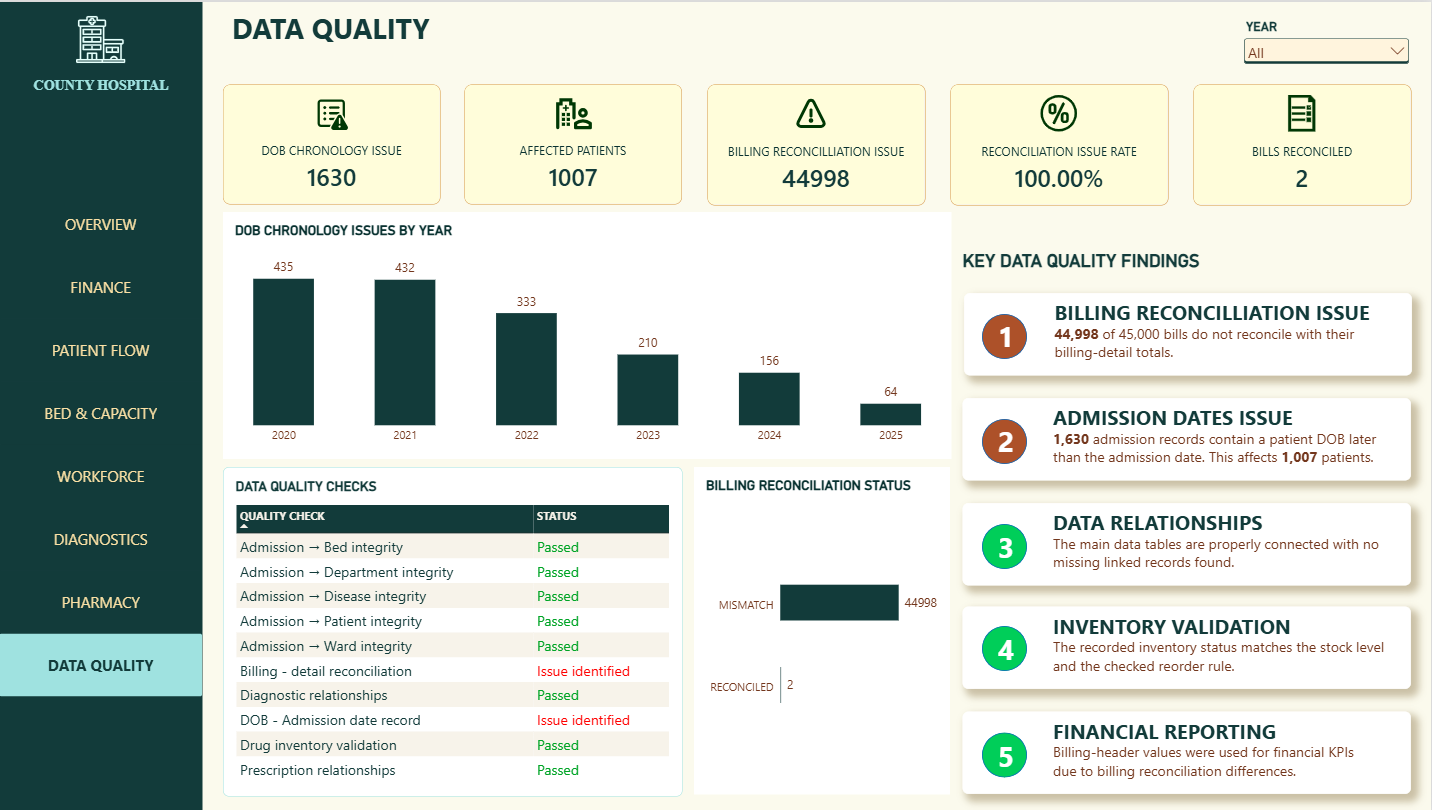

The page's visual inventory and layout, read from the dashboard file:
{"tool":"powerbi","page":{"name":"DATA QUALITY","canvas":[1920,1080],"ordinal":7},"visuals":[{"type":"shape","box":[9.8,0,270.8,1080.8],"z":0,"group":"g6"},{"type":"image","box":[112.3,0,65.9,100],"z":0,"group":"g2"},{"type":"textbox","box":[280.6,0,639.2,78.1],"z":0},{"type":"cardVisual","fields":{"Data":["DateTable.DOB RECORD ISSUE"]},"box":[307.4,109.8,290,160],"z":0,"group":"g4"},{"type":"textbox","box":[9.8,100,270.8,63.4],"z":1000,"group":"g2"},{"type":"group","id":"g1","title":"Group 3","box":[1278.5,109.8,290.3,161],"z":1000},{"type":"image","box":[428.2,124.4,48.8,48.8],"z":1000,"group":"g4"},{"type":"pageNavigator","box":[9.8,253.7,270.8,673.4],"z":1000,"group":"g6"},{"type":"group","id":"g2","title":"Group 1","box":[9.8,0,270.8,163.5],"z":2000,"group":"g6"},{"type":"cardVisual","fields":{"Data":["DateTable.BILLS WITH RECONCILLIATION ISSUE"]},"box":[954,109.8,290.3,161],"z":2000},{"type":"cardVisual","fields":{"Data":["DateTable.RECONCILIATION ISSUE RATE"]},"box":[1278.5,109.8,290.3,161],"z":2000,"group":"g1"},{"type":"group","id":"g3","title":"Group 5","box":[1603,109.8,290.3,161],"z":3000},{"type":"group","id":"g4","title":"Group 6","box":[307.4,109.8,287.9,161],"z":4000},{"type":"cardVisual","fields":{"Data":["DateTable.BILLS RECONCILED"]},"box":[1603,109.8,290.3,161],"z":4000,"group":"g3"},{"type":"group","id":"g5","title":"Group 1","box":[629.5,109.8,290,160],"z":5000},{"type":"image","box":[1398,124.4,48.8,48.8],"z":6000},{"type":"image","box":[749,124.4,52,52],"z":7000},{"type":"image","box":[1068.6,124.4,48,48],"z":8000},{"type":"cardVisual","fields":{"Data":["DateTable.AFFECTED PATIENTS"]},"box":[629.5,109.8,290,160],"z":9000,"group":"g5"},{"type":"image","box":[1722.5,124.4,48.8,48.8],"z":9000},{"type":"clusteredColumnChart","title":"DOB CHRONOLOGY ISSUES BY YEAR","fields":{"Category":["DateTable.Year"],"Y":["DateTable.DOB RECORD ISSUE"]},"box":[307.4,280.6,971,329.4],"z":10000},{"type":"tableEx","title":"DATA QUALITY CHECKS","fields":{"Values":["DATA QUALITY CHECKS.QUALITY CHECK","DATA QUALITY CHECKS.STATUS"]},"box":[307.4,619.7,612.4,439.2],"z":11000},{"type":"textbox","title":"KEY DATA QUALITY FINDINGS","box":[1293.1,309.9,600.2,58.6],"z":12000},{"type":"textbox","box":[1295.5,387.9,597,110],"z":12000,"group":"g8"},{"type":"textbox","box":[1294.8,667.3,597.8,110],"z":12000,"group":"g14"},{"type":"slicer","fields":{"Values":["DateTable.Year"]},"box":[1664,22,230,78.1],"z":13000},{"type":"textbox","box":[1294.8,807,597.8,110],"z":13000,"group":"g11"},{"type":"textbox","box":[1294.8,527.6,597.8,110],"z":14000,"group":"g9"},{"type":"clusteredBarChart","title":"BILLING RECONCILIATION STATUS","fields":{"Category":["hospital_operations_analysis billing_reconciliation_view.reconciliation_status"],"Y":["DateTable.RECONCILIATION BILLS"]},"box":[936.9,619.7,341.6,436.7],"z":14000},{"type":"textbox","box":[1294.8,946.6,597.8,110],"z":14000,"group":"g13"},{"type":"group","id":"g6","title":"Group 2","box":[9.8,0,270.8,1080.8],"z":15000},{"type":"group","id":"g7","title":"Group 4","box":[1320,690.5,61,63.4],"z":16000,"group":"g14"},{"type":"group","id":"g8","title":"Group 8","box":[1295.5,387.9,597,110],"z":17000},{"type":"group","id":"g9","title":"Group 9","box":[1294.8,527.6,597.8,110],"z":18000},{"type":"group","id":"g10","title":"Group 4","box":[1320,971,61,63.4],"z":19000,"group":"g13"},{"type":"group","id":"g11","title":"Group 11","box":[1294.8,807,597.8,110],"z":20000},{"type":"group","id":"g12","title":"Group 4","box":[1320,829.6,61,63.4],"z":21000,"group":"g11"},{"type":"group","id":"g13","title":"Group 12","box":[1294.8,946.6,597.8,110],"z":21000},{"type":"group","id":"g14","title":"Group 10","box":[1294.8,667.3,597.8,110],"z":21001},{"type":"group","id":"g15","title":"Group 7","box":[1319.9,409.9,61,65.9],"z":24000,"group":"g8"},{"type":"group","id":"g16","title":"Group 7","box":[1320,548.9,61,65.9],"z":24001,"group":"g9"},{"type":"shape","title":"2","box":[1319.9,415.3,60,60],"z":25000,"group":"g15"},{"type":"shape","title":"2","box":[1320,554.3,60,60],"z":25000,"group":"g16"},{"type":"shape","title":"2","box":[1320,694.2,60,60],"z":25000,"group":"g7"},{"type":"shape","title":"2","box":[1320,833.3,60,60],"z":25000,"group":"g12"},{"type":"shape","title":"2","box":[1320,974.7,60,60],"z":25000,"group":"g10"},{"type":"textbox","box":[1321,409.9,60,60],"z":26000,"group":"g15"},{"type":"textbox","box":[1321.1,548.9,60,60],"z":26000,"group":"g16"},{"type":"textbox","box":[1321.1,690.5,60,60],"z":26000,"group":"g7"},{"type":"textbox","box":[1321.1,829.6,60,60],"z":26000,"group":"g12"},{"type":"textbox","box":[1321.1,971,60,60],"z":26000,"group":"g10"}]}

Visuals, with their boxes in screenshot pixels (x1, y1, x2, y2), scaled from the page's 1920x1080 canvas onto the 1432x810 screenshot:
shape: box(7, 0, 209, 809)
image: box(84, 0, 133, 75)
textbox: box(209, 0, 686, 59)
cardVisual - DateTable.DOB RECORD ISSUE: box(229, 82, 446, 202)
textbox: box(7, 75, 209, 123)
"Group 3" group: box(954, 82, 1170, 203)
image: box(319, 93, 356, 130)
pageNavigator: box(7, 190, 209, 695)
"Group 1" group: box(7, 0, 209, 123)
cardVisual - DateTable.BILLS WITH RECONCILLIATION ISSUE: box(712, 82, 928, 203)
cardVisual - DateTable.RECONCILIATION ISSUE RATE: box(954, 82, 1170, 203)
"Group 5" group: box(1196, 82, 1412, 203)
"Group 6" group: box(229, 82, 444, 203)
cardVisual - DateTable.BILLS RECONCILED: box(1196, 82, 1412, 203)
"Group 1" group: box(470, 82, 686, 202)
image: box(1043, 93, 1079, 130)
image: box(559, 93, 597, 132)
image: box(797, 93, 833, 129)
cardVisual - DateTable.AFFECTED PATIENTS: box(470, 82, 686, 202)
image: box(1285, 93, 1321, 130)
"DOB CHRONOLOGY ISSUES BY YEAR" clusteredColumnChart: box(229, 210, 953, 458)
"DATA QUALITY CHECKS" tableEx: box(229, 465, 686, 794)
"KEY DATA QUALITY FINDINGS" textbox: box(964, 232, 1412, 276)
textbox: box(966, 291, 1411, 373)
textbox: box(966, 500, 1412, 583)
slicer - DateTable.Year: box(1241, 16, 1413, 75)
textbox: box(966, 605, 1412, 688)
textbox: box(966, 396, 1412, 478)
"BILLING RECONCILIATION STATUS" clusteredBarChart: box(699, 465, 954, 792)
textbox: box(966, 710, 1412, 792)
"Group 2" group: box(7, 0, 209, 809)
"Group 4" group: box(984, 518, 1030, 565)
"Group 8" group: box(966, 291, 1411, 373)
"Group 9" group: box(966, 396, 1412, 478)
"Group 4" group: box(984, 728, 1030, 776)
"Group 11" group: box(966, 605, 1412, 688)
"Group 4" group: box(984, 622, 1030, 670)
"Group 12" group: box(966, 710, 1412, 792)
"Group 10" group: box(966, 500, 1412, 583)
"Group 7" group: box(984, 307, 1030, 357)
"Group 7" group: box(984, 412, 1030, 461)
"2" shape: box(984, 311, 1029, 356)
"2" shape: box(984, 416, 1029, 461)
"2" shape: box(984, 521, 1029, 566)
"2" shape: box(984, 625, 1029, 670)
"2" shape: box(984, 731, 1029, 776)
textbox: box(985, 307, 1030, 352)
textbox: box(985, 412, 1030, 457)
textbox: box(985, 518, 1030, 563)
textbox: box(985, 622, 1030, 667)
textbox: box(985, 728, 1030, 773)
